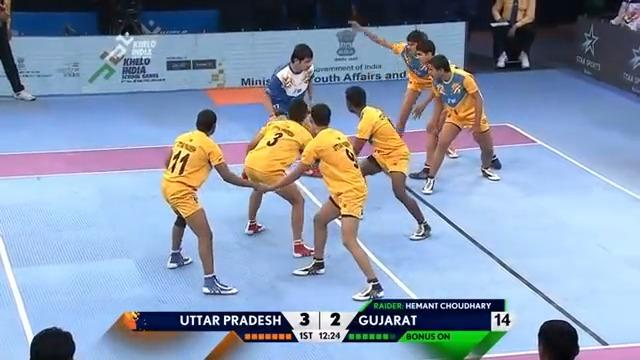Player: (254, 102, 384, 301), (160, 108, 261, 295), (349, 20, 458, 177), (342, 85, 431, 241), (409, 53, 501, 194), (241, 98, 320, 258)
Raider: (261, 42, 315, 122)
referee: (0, 0, 36, 101), (489, 0, 536, 69)
